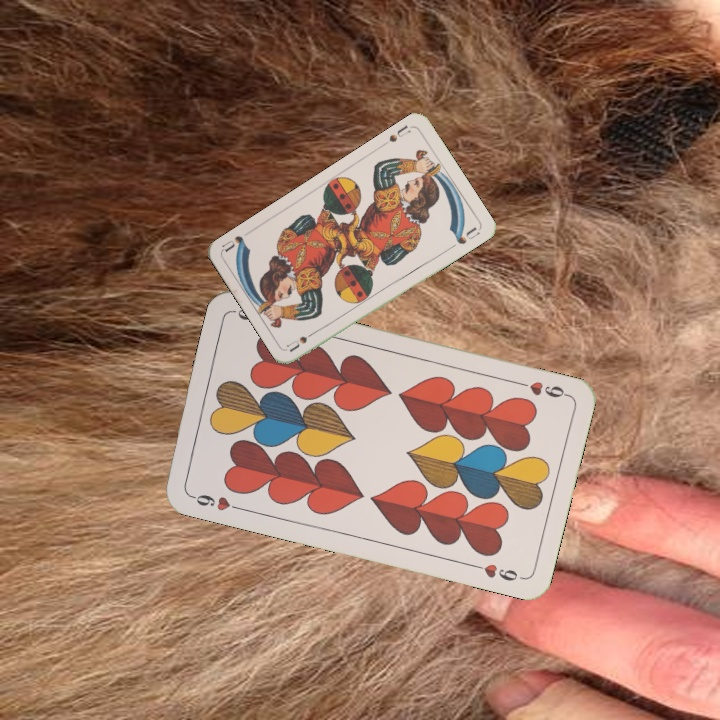H9: (185, 490, 244, 514), (512, 377, 571, 400)
SU: (284, 325, 321, 354), (385, 121, 413, 145)
